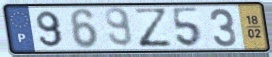3: (209, 7, 238, 48)
5: (170, 6, 205, 50)
6: (69, 7, 101, 51)
9: (104, 6, 135, 51), (34, 9, 65, 49)
Z: (132, 7, 175, 50)
